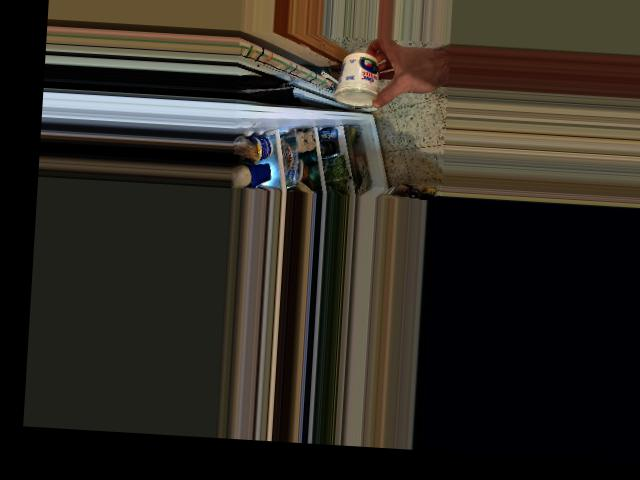cotage: (329, 50, 389, 112)
